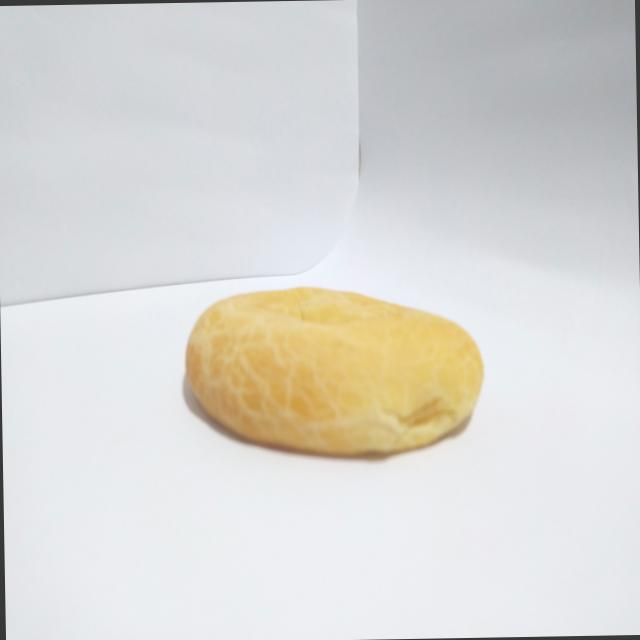Chipa: (179, 270, 489, 472)
